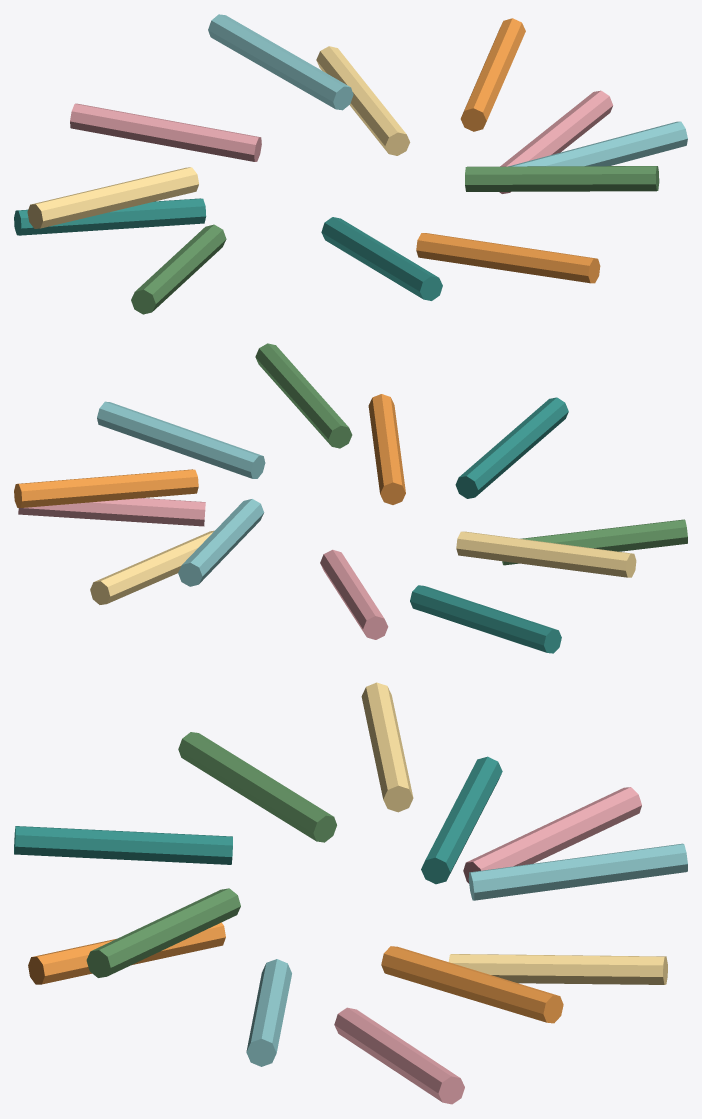
The model's file is glow_sticks_pile.glb.
3 views of the same model, one above another, from view 1: azimuth 30°, elevation 25°; view 2: azimuth 150°, elevation 25°; view 3: azimuth 270°, elevation 25° (orthographic). The views are drawn at different scales.
Parts seen in each view (by area): view 1: glow_stick.006, glow_stick.010, glow_stick.002, glow_stick.009, glow_stick.011, glow_stick.001, glow_stick.007, glow_stick.005, glow_stick.003, glow_stick.004, glow_stick.008, glow_stick; view 2: glow_stick.008, glow_stick.009, glow_stick.005, glow_stick.001, glow_stick, glow_stick.007, glow_stick.010, glow_stick.004, glow_stick.003, glow_stick.002, glow_stick.011, glow_stick.006; view 3: glow_stick.011, glow_stick.007, glow_stick.003, glow_stick.008, glow_stick.004, glow_stick.006, glow_stick.010, glow_stick, glow_stick.001, glow_stick.009, glow_stick.005, glow_stick.002.
Part boxes in pixels (x1,y1,x2,y2): glow_stick.006: (70, 103, 261, 161); glow_stick.010: (465, 166, 659, 191); glow_stick.002: (416, 233, 600, 283); glow_stick.009: (27, 167, 198, 228); glow_stick.011: (208, 14, 353, 110); glow_stick.001: (14, 198, 206, 235); glow_stick.007: (321, 217, 442, 300); glow_stick.005: (508, 121, 687, 166); glow_stick.003: (316, 46, 410, 155); glow_stick.004: (131, 224, 226, 314); glow_stick.008: (460, 18, 525, 131); glow_stick: (499, 90, 613, 193); glow_stick.008: (14, 469, 198, 507); glow_stick.009: (456, 531, 636, 577); glow_stick.005: (97, 401, 265, 478); glow_stick.001: (410, 585, 561, 653); glow_stick: (18, 498, 205, 526); glow_stick.007: (455, 397, 568, 498); glow_stick.010: (255, 343, 352, 448); glow_stick.004: (502, 519, 687, 565); glow_stick.003: (90, 530, 214, 604); glow_stick.002: (368, 394, 405, 504); glow_stick.011: (178, 499, 264, 586); glow_stick.006: (320, 549, 388, 639); glow_stick.011: (468, 843, 687, 900); glow_stick.007: (14, 826, 232, 864); glow_stick.003: (448, 954, 667, 984); glow_stick.008: (381, 946, 563, 1023); glow_stick.004: (178, 732, 336, 842); glow_stick.006: (463, 787, 641, 883); glow_stick.010: (86, 888, 240, 977); glow_stick: (334, 1007, 464, 1104); glow_stick.001: (421, 756, 502, 884); glow_stick.009: (361, 682, 413, 812); glow_stick.005: (246, 959, 291, 1066); glow_stick.002: (28, 922, 225, 984).
Size of the model in its own units: 1.82 by 0.2979 by 1.55.
